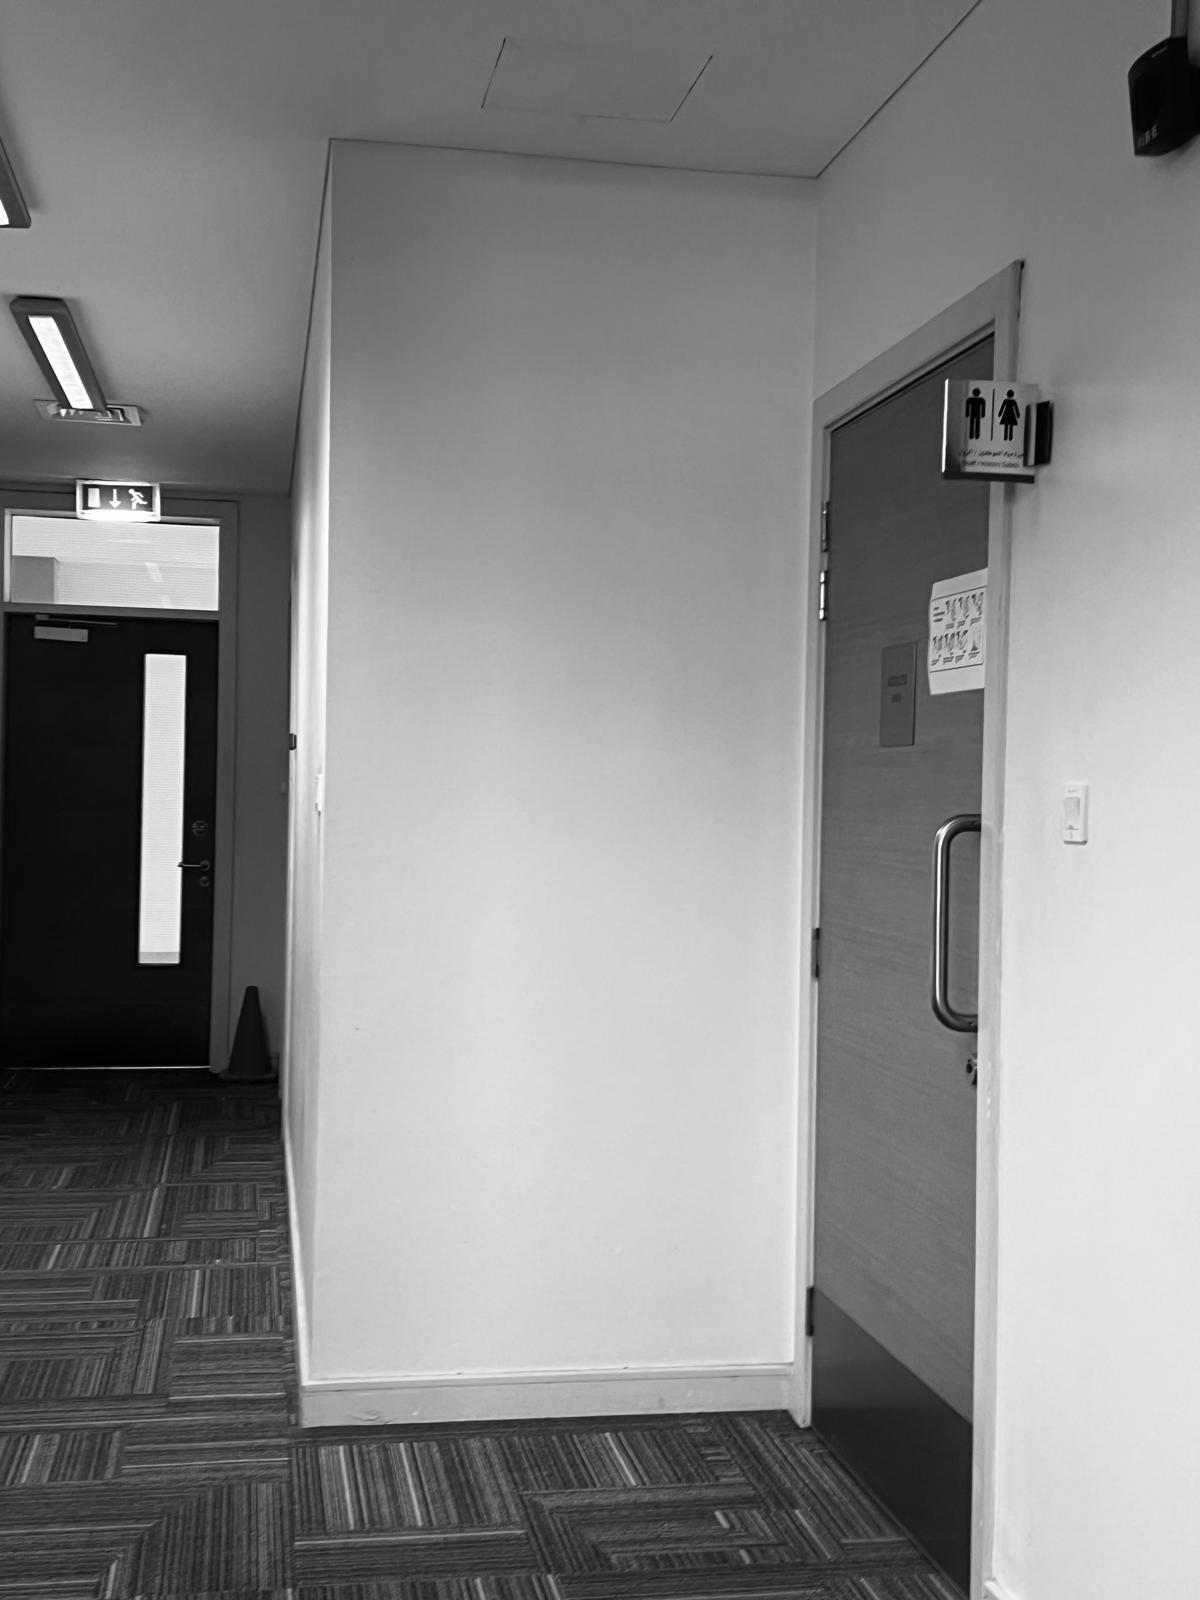Wall: (50, 0, 1199, 1599)
